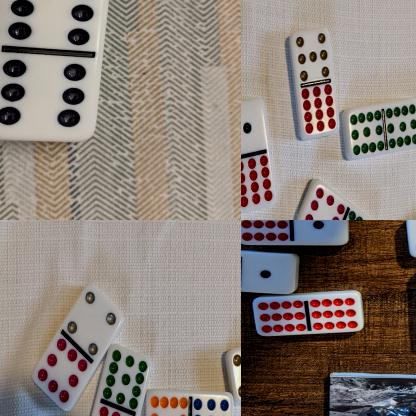pip-1: (241, 252, 296, 294), (290, 220, 348, 246), (241, 101, 264, 159)
pip-10: (144, 391, 189, 416)
pip-11: (102, 347, 150, 412), (349, 108, 384, 162), (383, 101, 416, 150)
pip-12: (252, 296, 307, 338), (306, 294, 363, 334), (298, 83, 337, 141), (241, 156, 274, 215), (241, 220, 289, 247)
pip-4: (67, 286, 116, 357)
pip-6: (0, 53, 100, 140), (0, 0, 109, 52)
pip-7: (290, 30, 331, 83), (231, 341, 241, 405)
pip-8: (31, 338, 86, 412), (297, 186, 344, 220)
pip-9: (189, 392, 233, 416)
